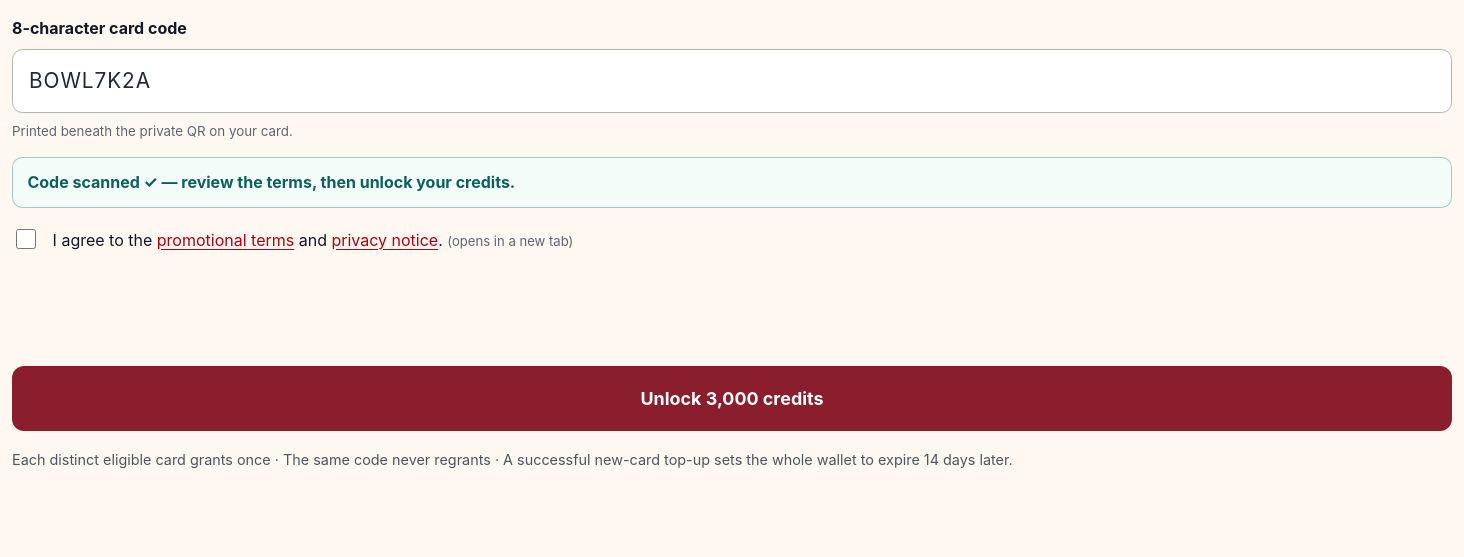
Test: RedeemForm › resets the exact explicit Turnstile widget after a failed submission
Step 1. Click the checkbox named "termsAccepted" → (26, 239), box x1=16 y1=229 x2=36 y2=249
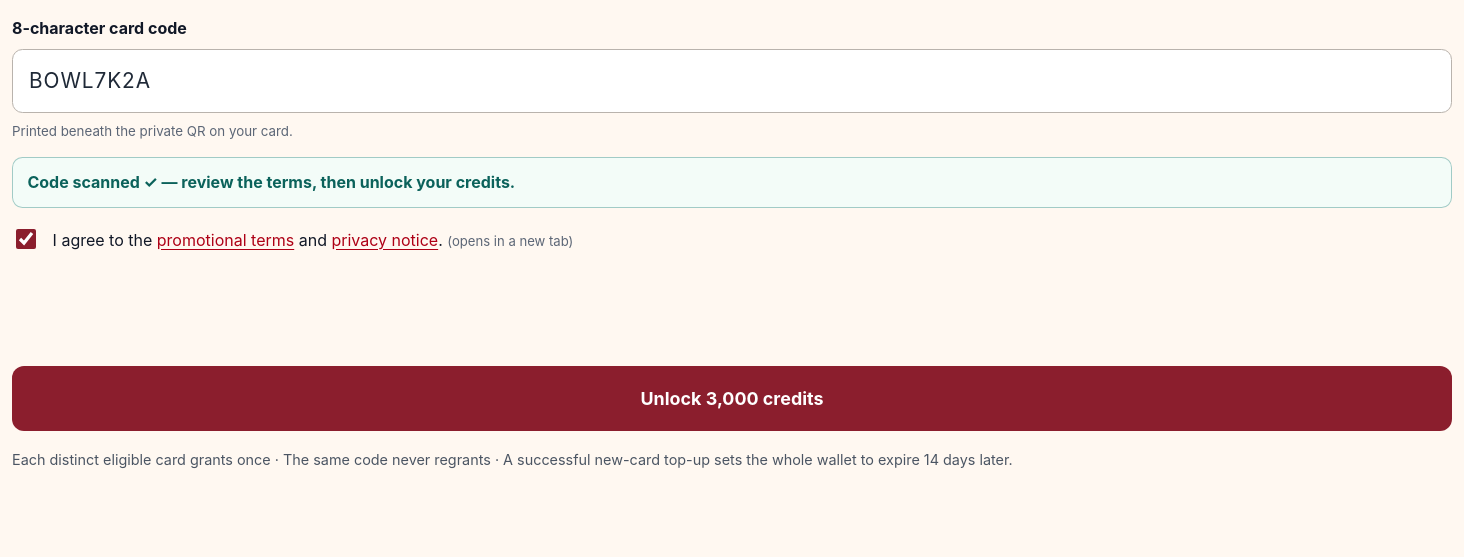
Step 2. Submit the form
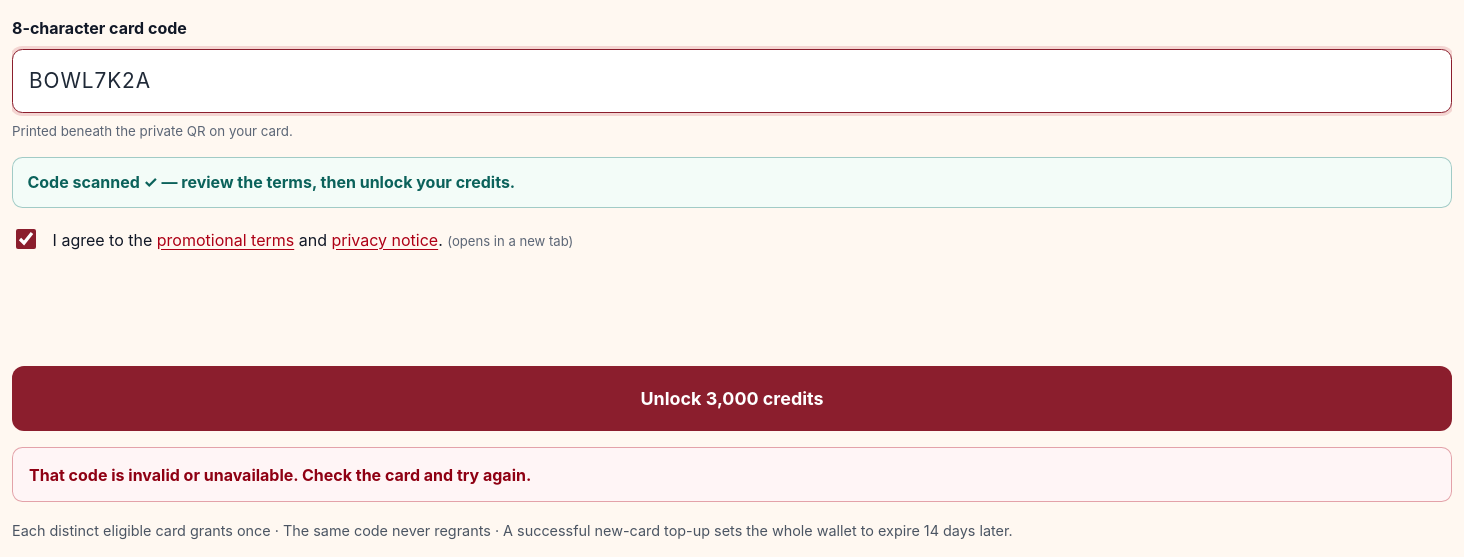
Expected: the text "invalid or unavailable" is shown, x1=29 y1=465 x2=531 y2=485
